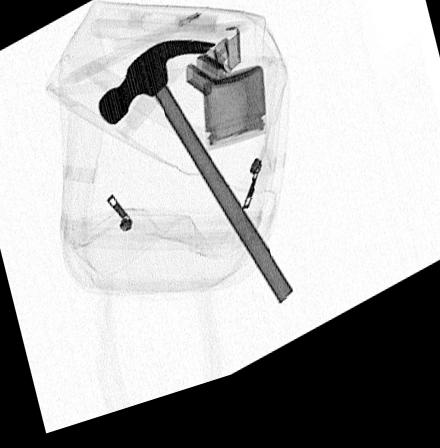Hammer: (95, 47, 295, 321)
